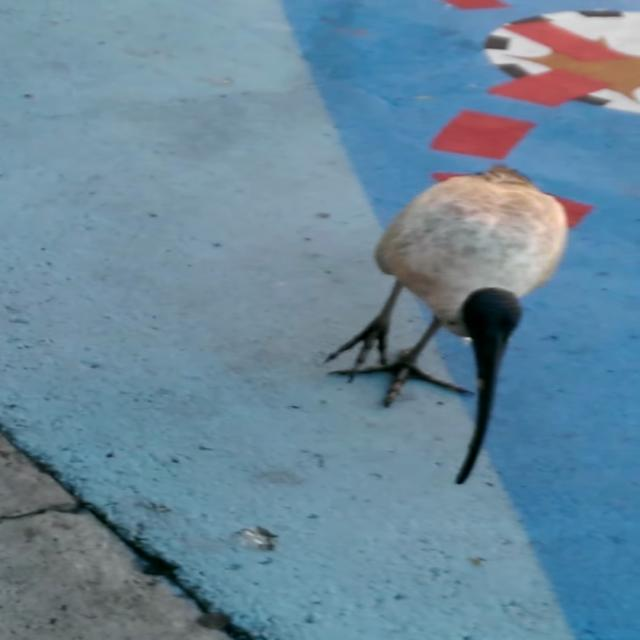Birds-Ibis: (316, 164, 580, 490)
